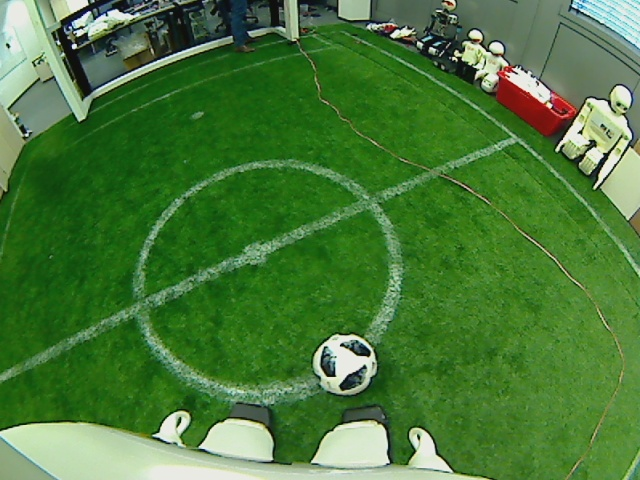ball: (310, 331, 378, 395)
